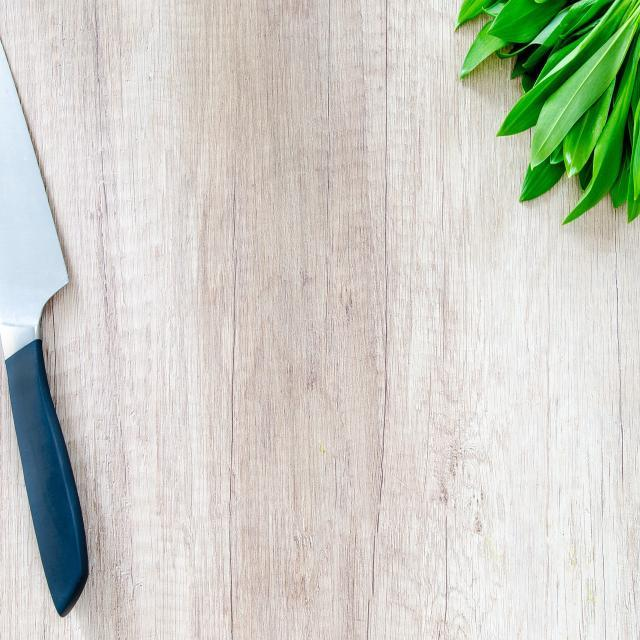Knife: (0, 44, 88, 615)
